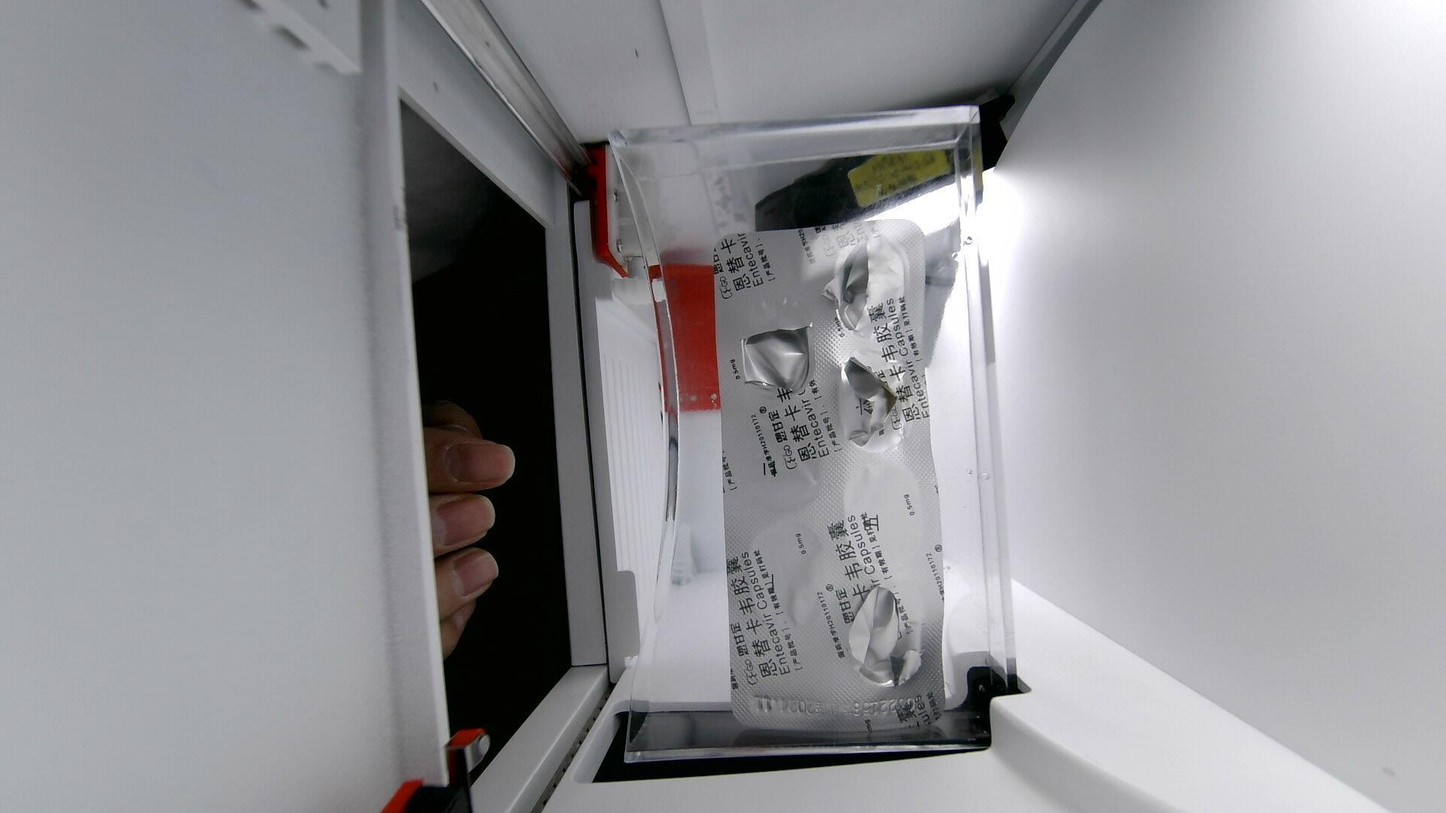No Pill Back: (845, 577, 926, 690), (827, 235, 908, 337), (737, 291, 816, 394), (840, 352, 911, 452)
Pill Back: (742, 404, 824, 508), (847, 461, 923, 566), (748, 521, 825, 623)
